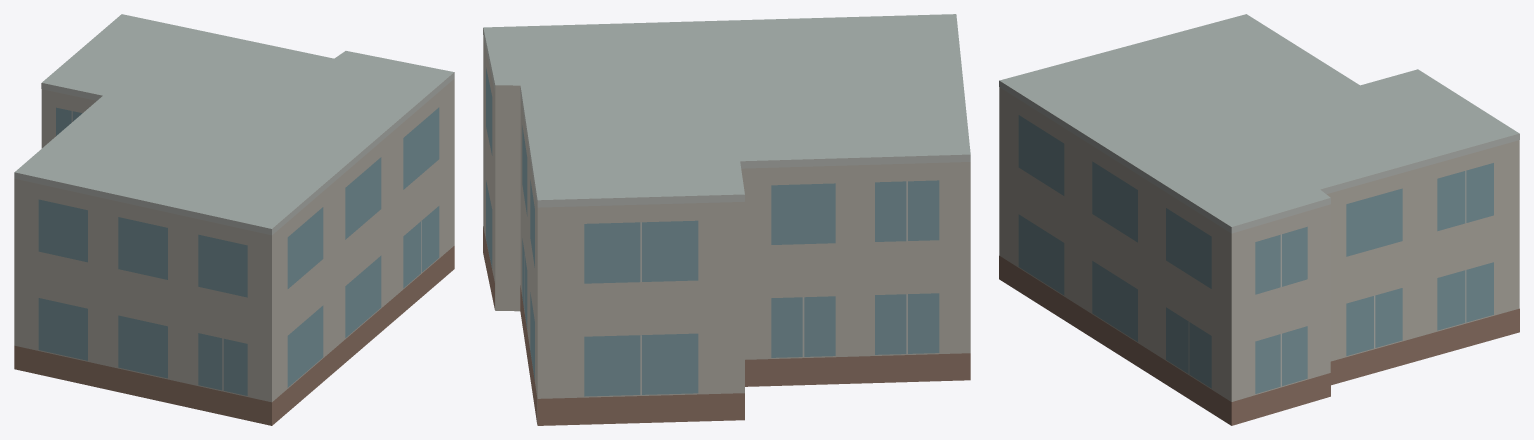
File: survey-upis-32625514.glb
The picture shows the model from 3 angles, left to right: view 1: azimuth 30°, elevation 25°; view 2: azimuth 150°, elevation 25°; view 3: azimuth 270°, elevation 25°; orthographic projection. The views are drawn at different scales.
Parts seen in each view (by area): view 1: survey-upis-32625514.tmp; view 2: survey-upis-32625514.tmp; view 3: survey-upis-32625514.tmp.
Boxes of the visible parts, left/top/right/bottom form: survey-upis-32625514.tmp: left=14, top=14, right=454, bottom=425; survey-upis-32625514.tmp: left=483, top=14, right=970, bottom=425; survey-upis-32625514.tmp: left=999, top=14, right=1519, bottom=425.
Bounding box in the file's own units: 17.26 × 7.5 × 17.81.
